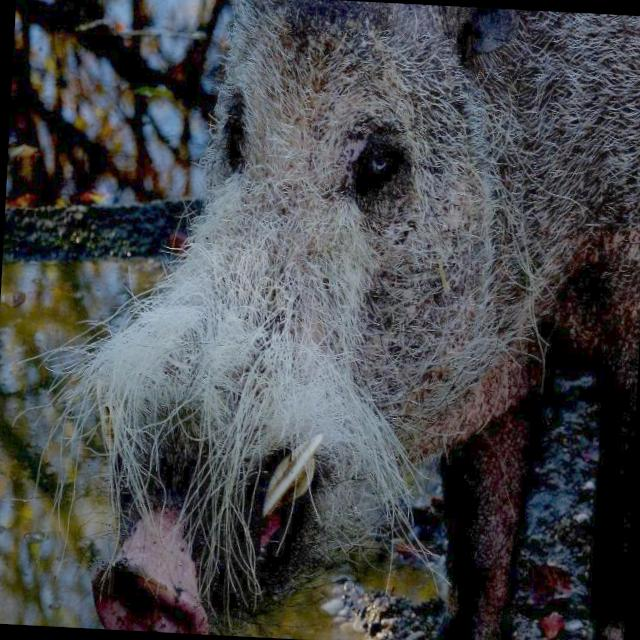pig: (66, 0, 640, 640)
